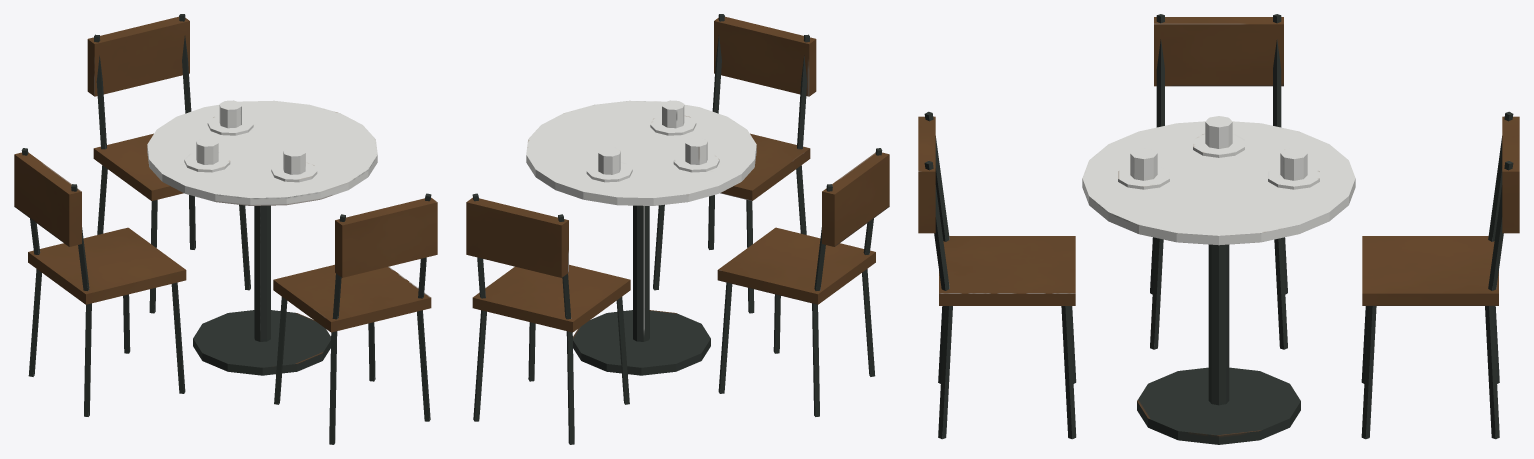
File: stolek_kavarna_dc122b33.glb
3 views of the same model, side by side, from view 1: azimuth 30°, elevation 25°; view 2: azimuth 150°, elevation 25°; view 3: azimuth 270°, elevation 25° (orthographic). The views are drawn at different scales.
Visible parts, largest first — view 1: dum; view 2: dum; view 3: dum.
Boxes of the visible parts, x1,y1,x2,y2 form: dum: (14,14,437,444); dum: (466,14,889,444); dum: (918,14,1519,444).
Size of the model in its own units: 1.28 by 0.8797 by 1.76.
1 material, 1 textured.
